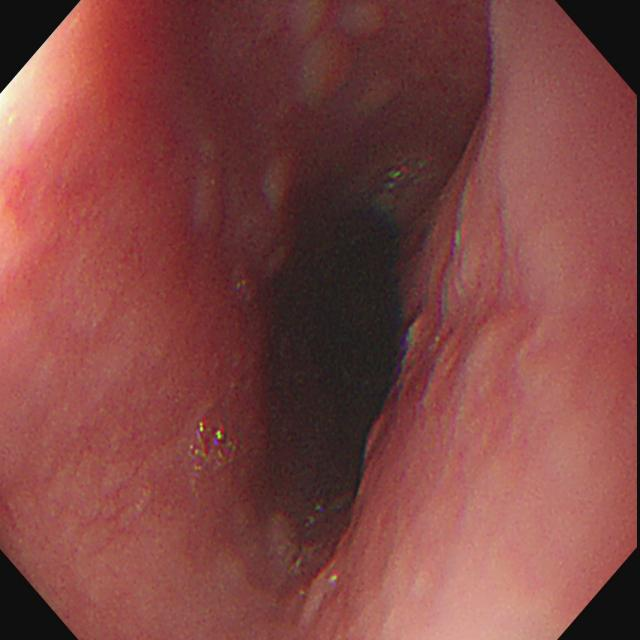A: (403, 172, 529, 410), (179, 148, 300, 319)
E: (238, 176, 412, 531)
T: (191, 413, 241, 476)
